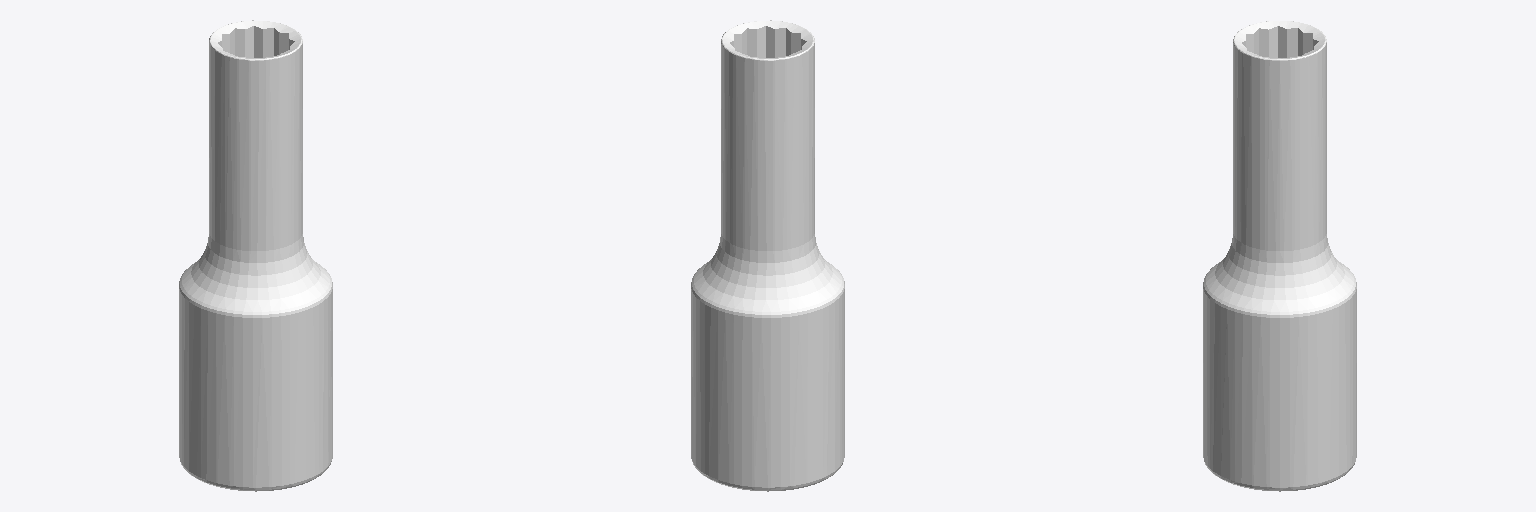
The robot description file, URDF, robot "M6_sleeve":
<?xml version="1.0" encoding="utf-8"?>
<!-- This URDF was automatically created by SolidWorks to URDF Exporter! Originally created by [author] ([email redacted]) 
     Commit Version: 1.6.0-4-g7f85cfe  Build Version: 1.6.7995.38578
     For more information, please see http://wiki.ros.org/sw_urdf_exporter -->
<robot
  name="M6_sleeve">
  <link
    name="M6_sleeve_base_link">
    <inertial>
      <origin
        xyz="-0.0011603 -1.1059E-17 1.8063E-16"
        rpy="0 0 0" />
      <mass
        value="0.010651" />
      <inertia
        ixx="8.1338E-07"
        ixy="2.9592E-21"
        ixz="-4.8249E-20"
        iyy="3.3923E-06"
        iyz="1.2184E-38"
        izz="3.3923E-06" />
    </inertial>
    <visual>
      <origin
        xyz="0 0 0"
        rpy="0 0 0" />
      <geometry>
        <mesh
          filename="package://M6_sleeve/meshes/M6_sleeve_base_link.STL" />
      </geometry>
      <material
        name="">
        <color
          rgba="1 1 1 1" />
      </material>
    </visual>
    <collision>
      <origin
        xyz="0 0 0"
        rpy="0 0 0" />
      <geometry>
        <mesh
          filename="package://M6_sleeve/meshes/M6_sleeve_base_link.STL" />
      </geometry>
    </collision>
  </link>
</robot>

--- What the picture shows (computed from the rendered views, not written in the file) ---
The picture shows the robot from 3 angles, left to right: view 1: azimuth 30°, elevation 25°; view 2: azimuth 150°, elevation 25°; view 3: azimuth 270°, elevation 25°; orthographic projection.
Model M6_sleeve with 1 links and 0 joints (none), rooted at M6_sleeve_base_link, posed every joint at zero.
Links seen in each view (by area): view 1: M6_sleeve_base_link; view 2: M6_sleeve_base_link; view 3: M6_sleeve_base_link.
Boxes of the visible links, x1,y1,x2,y2 form: M6_sleeve_base_link: (179, 20, 332, 491); M6_sleeve_base_link: (691, 20, 844, 491); M6_sleeve_base_link: (1203, 21, 1356, 491).
Size in the robot's own frame: 0.023 by 0.023 by 0.0693 metres.
1 mesh visuals loaded from 1 distinct referenced files (1 binary STL).